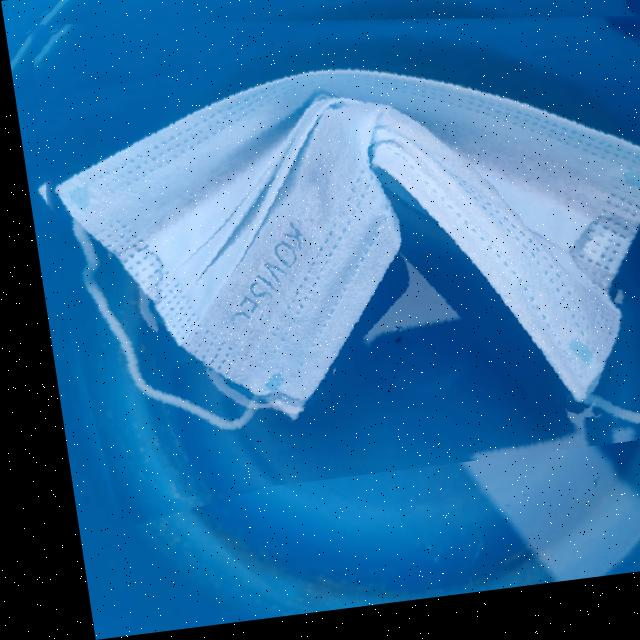litter: (3, 0, 640, 510)
